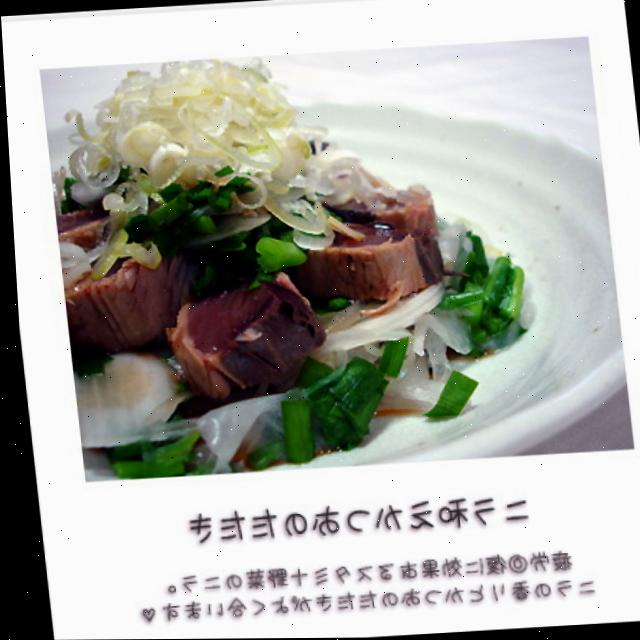熟制海鲜: (37, 99, 513, 409)
